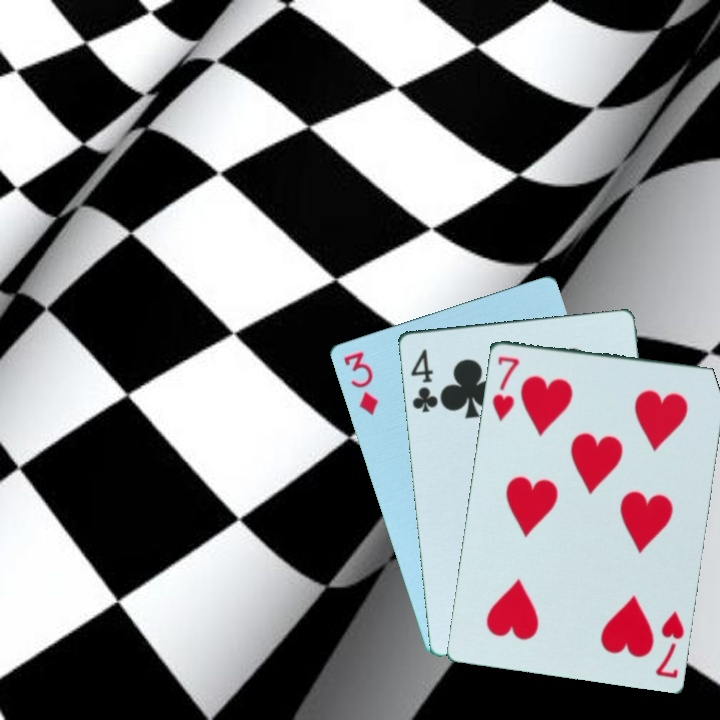3d: (339, 347, 384, 420)
4c: (407, 345, 440, 415)
7h: (651, 606, 687, 681), (488, 352, 522, 424)
